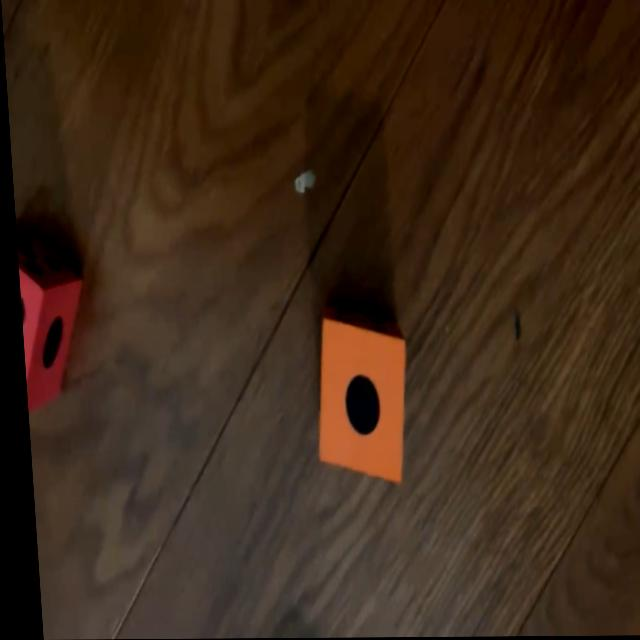cube: (12, 221, 86, 415)
